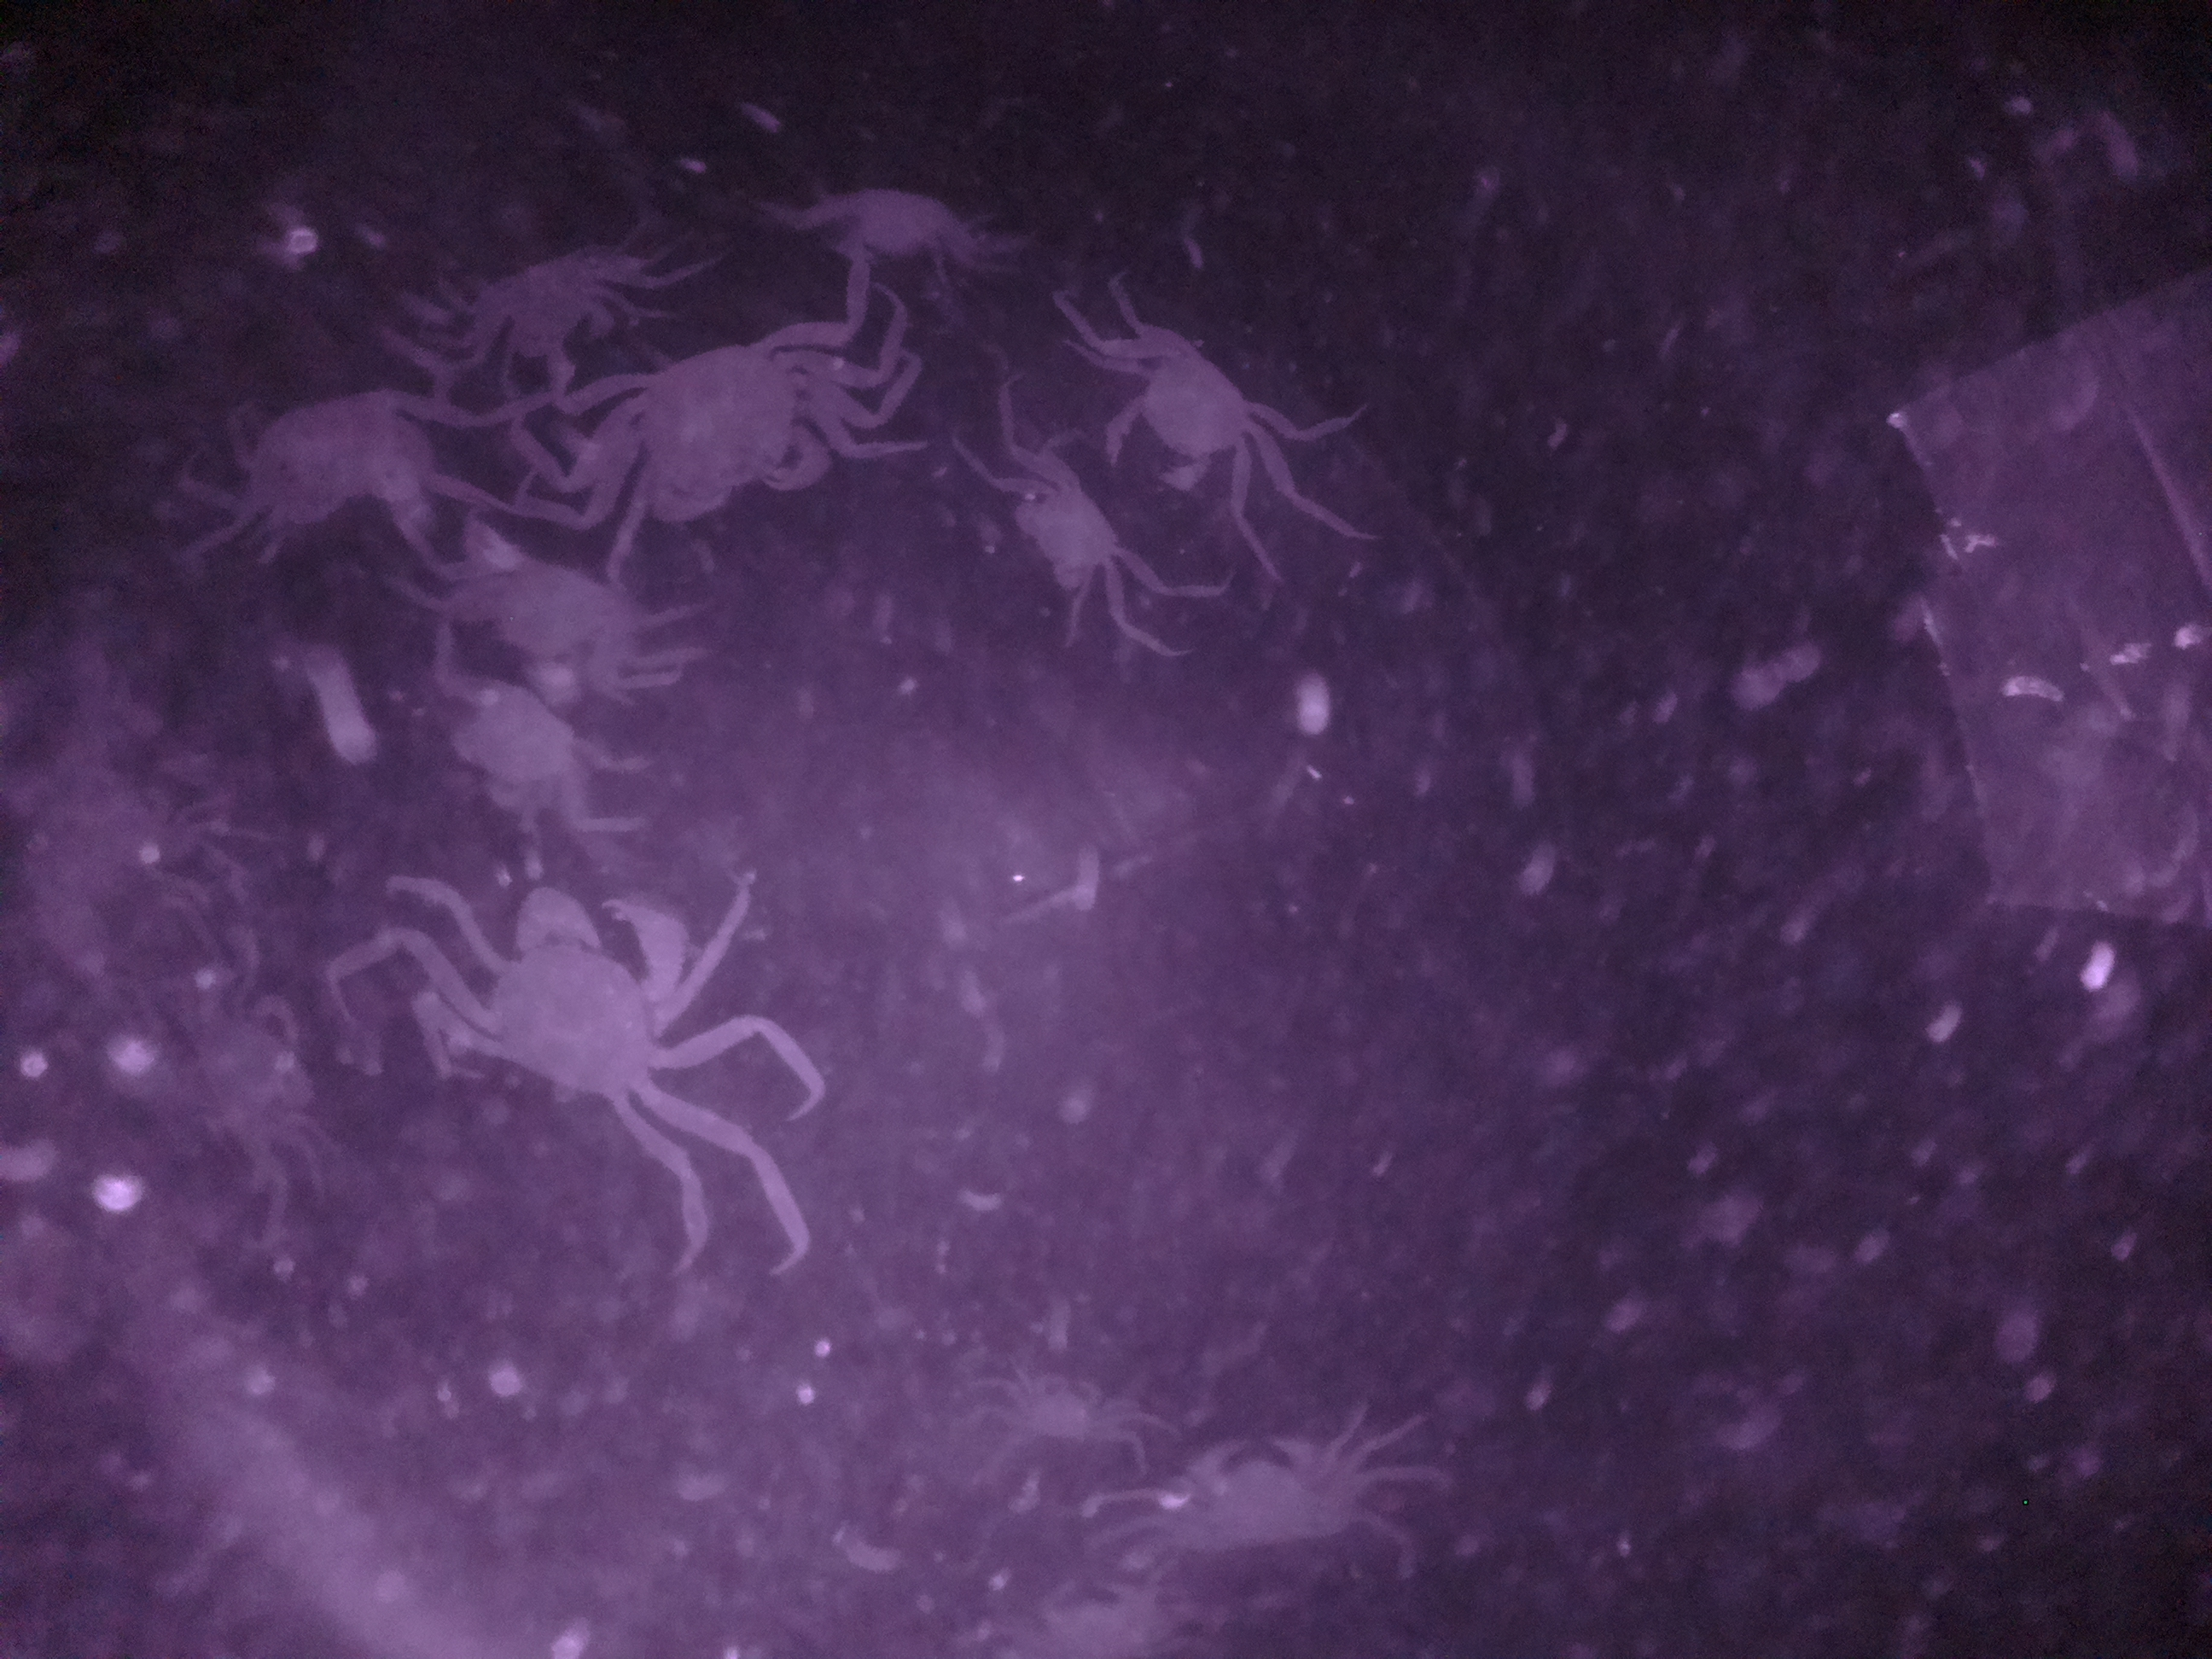Crab: (571, 331, 885, 547), (455, 870, 700, 1140), (1122, 308, 1299, 526), (223, 380, 451, 547), (982, 429, 1148, 629), (1169, 1419, 1367, 1572), (439, 251, 653, 383), (1000, 1352, 1120, 1471)
